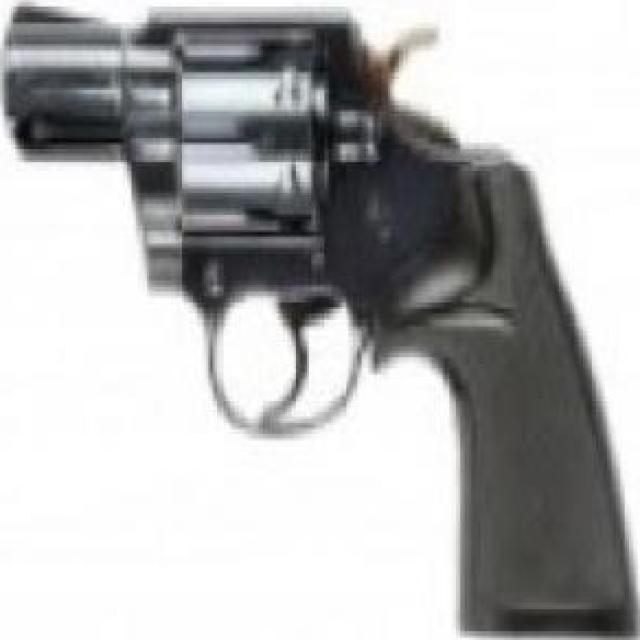pistol: (13, 13, 638, 627)
